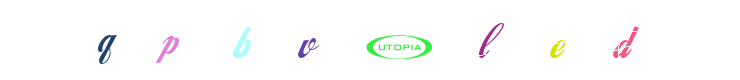6: (330, 0, 410, 80)
B: (260, 0, 340, 80)
D: (585, 0, 665, 80)
E: (516, 0, 596, 80)
L: (359, 0, 439, 80)
P: (236, 0, 316, 80)
Q: (65, 0, 145, 80)
V: (324, 0, 404, 80)
